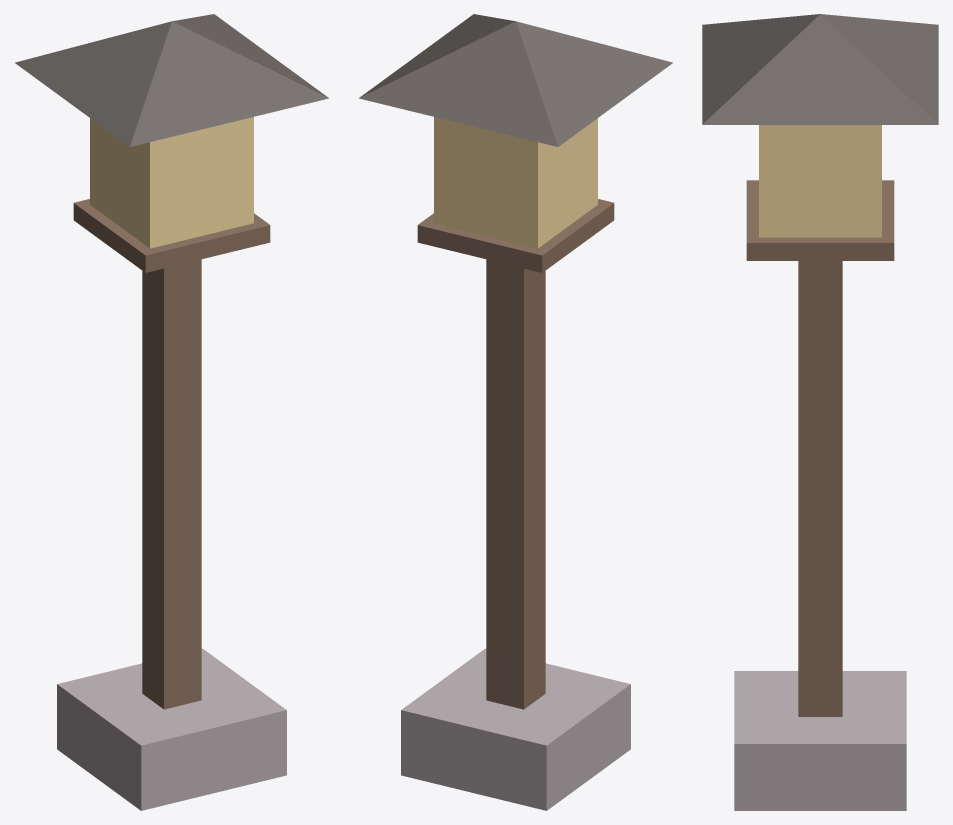
Rendered from lamp_s1_01.glb.
The picture shows the model from 3 angles, left to right: view 1: azimuth 30°, elevation 25°; view 2: azimuth 150°, elevation 25°; view 3: azimuth 270°, elevation 25°; orthographic projection. The views are drawn at different scales.
Parts seen in each view (by area): view 1: part01, part02, part00, part03; view 2: part01, part02, part00, part03; view 3: part01, part00, part02, part03.
Part boxes in pixels (<box>): part01: <box>73,199,270,709</box>; part02: <box>57,648,286,810</box>; part00: <box>15,14,328,146</box>; part03: <box>90,117,253,248</box>; part01: <box>417,199,614,709</box>; part02: <box>401,648,630,810</box>; part00: <box>359,14,672,146</box>; part03: <box>434,117,597,248</box>; part01: <box>746,180,894,716</box>; part00: <box>702,14,938,124</box>; part02: <box>734,671,906,810</box>; part03: <box>759,125,881,237</box>.
Size of the model in its own units: 0.96 by 3.4 by 0.96.
